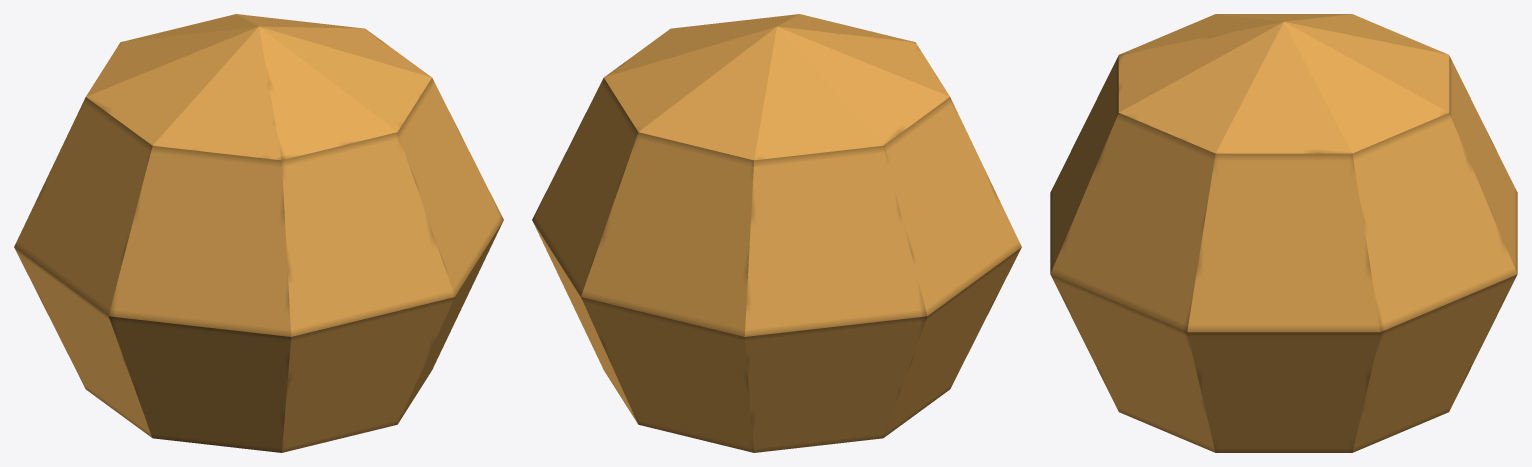
Rendered from playerEnergyFire.fbx.
The picture shows the model from 3 angles, left to right: view 1: azimuth 30°, elevation 25°; view 2: azimuth 150°, elevation 25°; view 3: azimuth 270°, elevation 25°; orthographic projection. The views are drawn at different scales.
Visible parts, largest first — view 1: sphere; view 2: sphere; view 3: sphere.
Part boxes in pixels (left/top/right/bottom): sphere: left=14, top=14, right=503, bottom=452; sphere: left=532, top=14, right=1021, bottom=452; sphere: left=1050, top=14, right=1517, bottom=452.
Bounding box in the file's own units: 100 × 100 × 100.
Materials: 1 (1 with a texture image).
